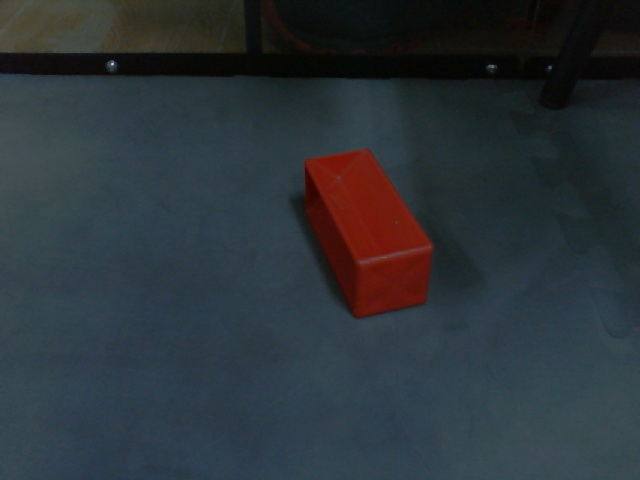RedSample: (302, 146, 436, 320)
